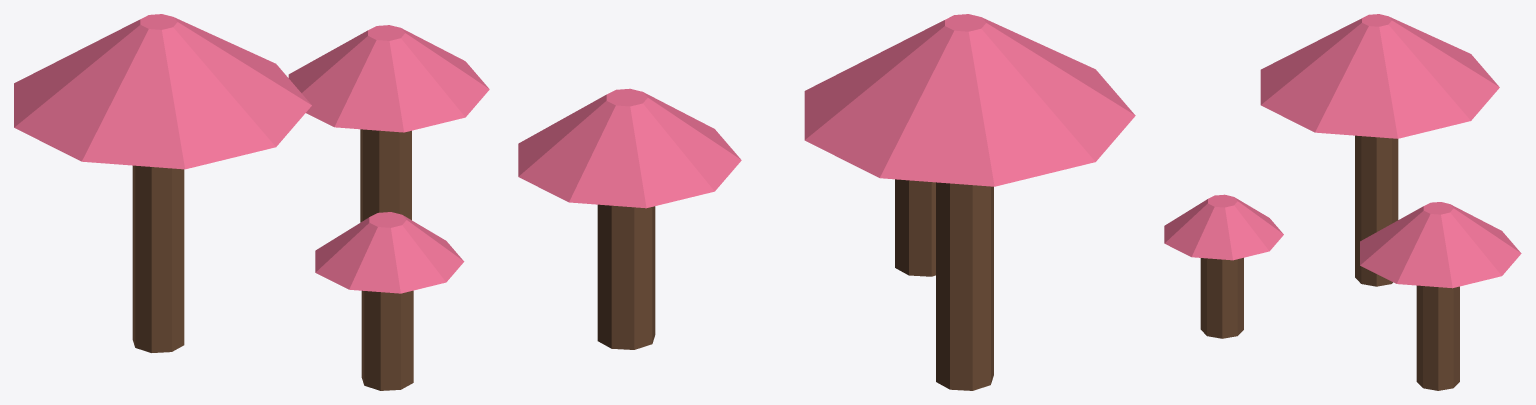
File: nature_mushrooms.glb
3 views of the same model, side by side, from view 1: azimuth 30°, elevation 25°; view 2: azimuth 150°, elevation 25°; view 3: azimuth 270°, elevation 25° (orthographic). The views are drawn at different scales.
Parts seen in each view (by area): view 1: nature_mushrooms; view 2: nature_mushrooms; view 3: nature_mushrooms.
Part boxes in pixels (left/top/right/bottom): nature_mushrooms: left=14, top=14, right=489, bottom=390; nature_mushrooms: left=518, top=14, right=1135, bottom=390; nature_mushrooms: left=1164, top=14, right=1521, bottom=390.
Bounding box in the file's own units: 0.7299 × 0.46 × 0.579.
